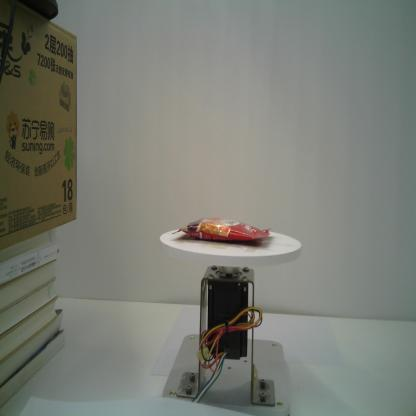Instant Drink: (170, 214, 276, 245)
